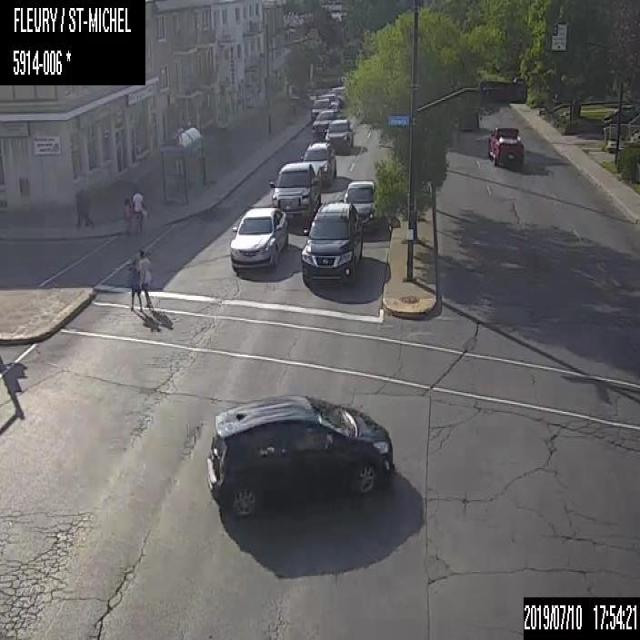pedestrian: (135, 248, 152, 309), (72, 189, 94, 228), (129, 248, 140, 311), (132, 188, 144, 233), (122, 195, 133, 235)
vehicle: (202, 391, 394, 516), (299, 199, 363, 284), (228, 202, 290, 276), (268, 161, 321, 223), (342, 177, 378, 234), (298, 138, 336, 188), (485, 126, 523, 166), (324, 118, 354, 156), (308, 107, 336, 136), (310, 96, 328, 120)
